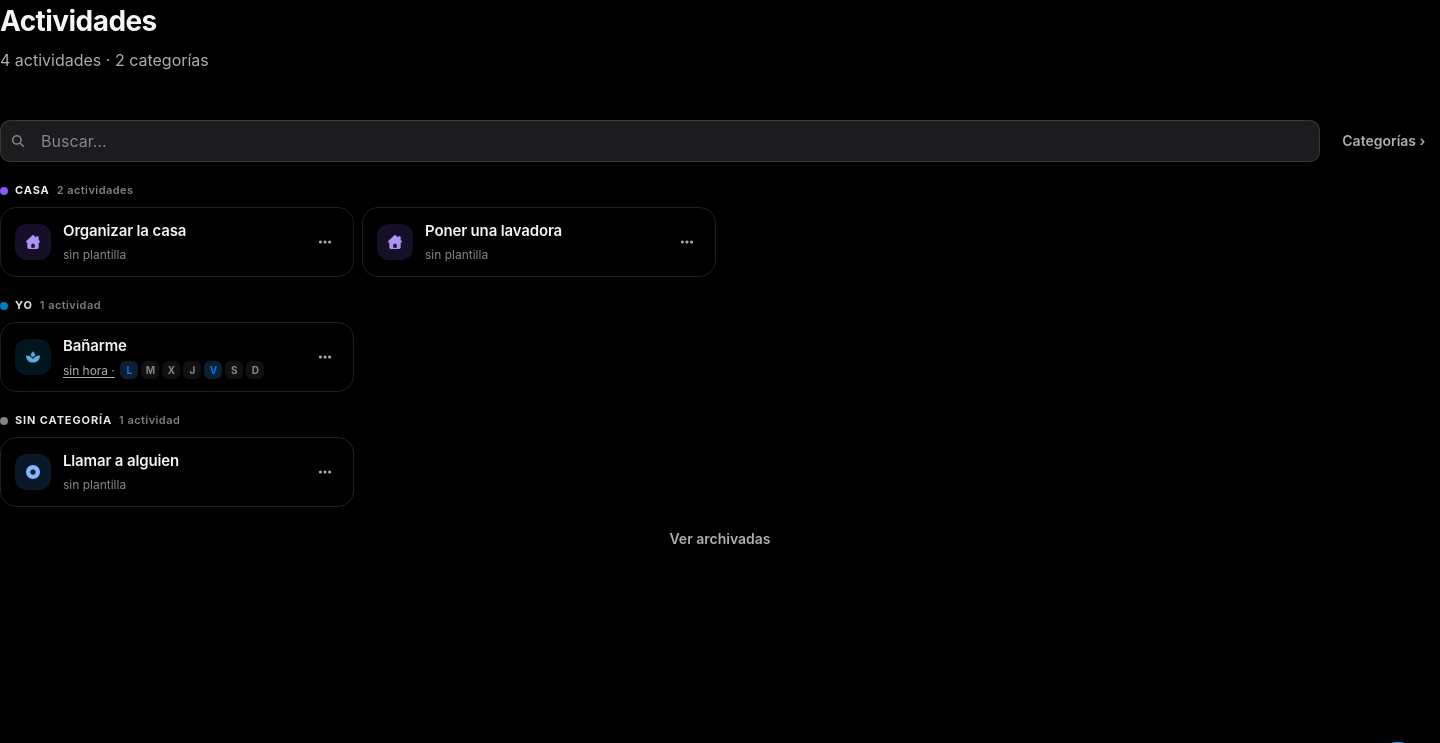
it: VidaActividadesPage › la hoja de editar recibe el VidaItem de esa actividad, con sus días (criterio 19)
The image size is (1440, 743).
Click the button named "Más opciones de Bañarme" at (325, 357), box [311,343,339,371]
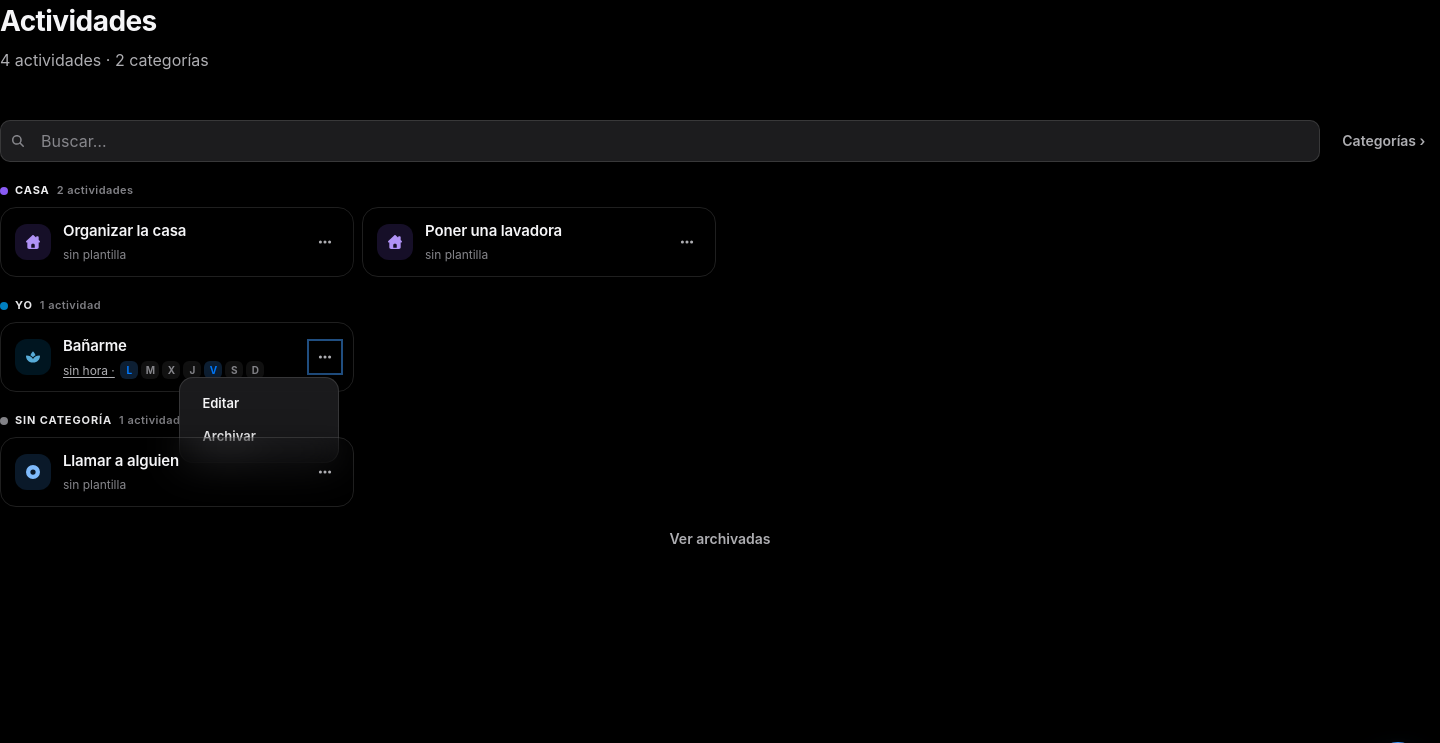
Click the button "Editar" at (259, 403), box [194,388,324,418]
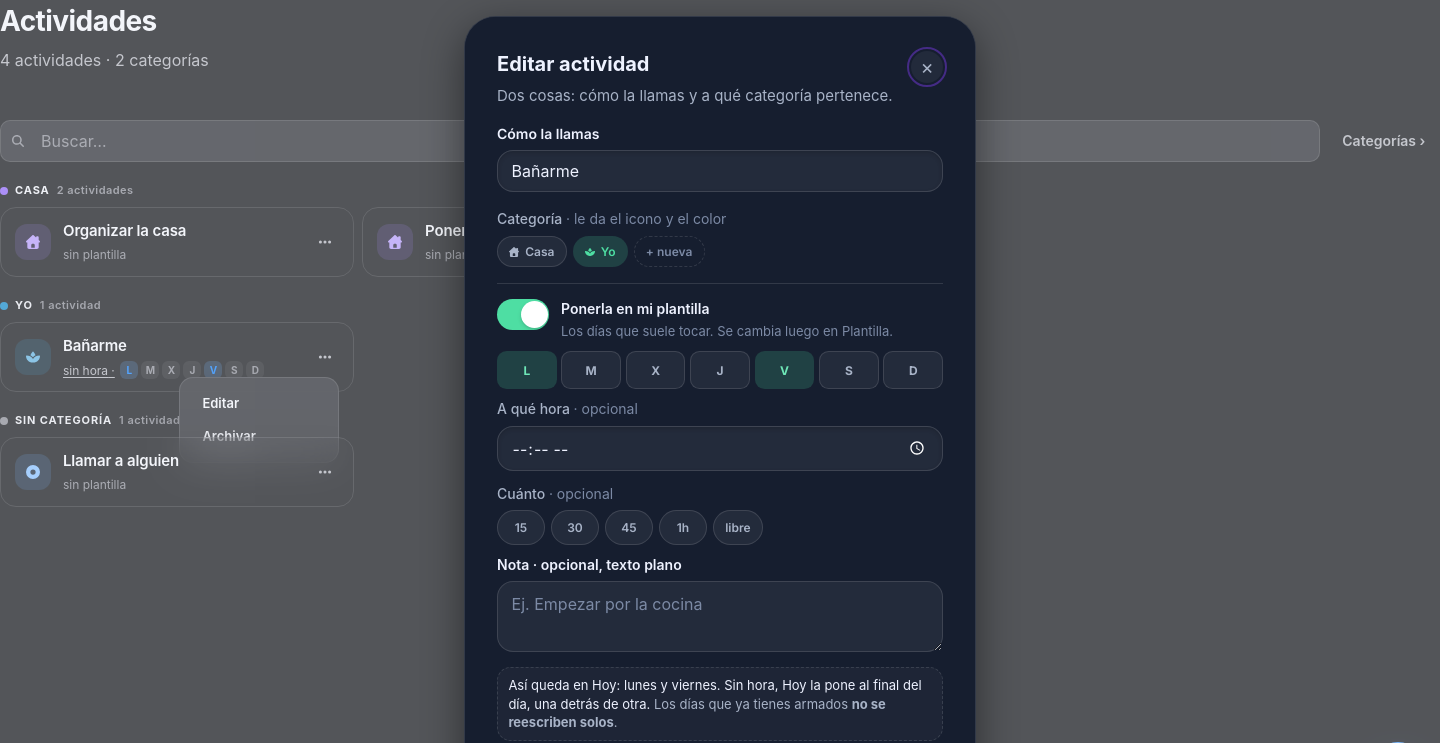
Expected: the switch labelled "Ponerla en mi plantilla" is checked, [561,300,710,317]
